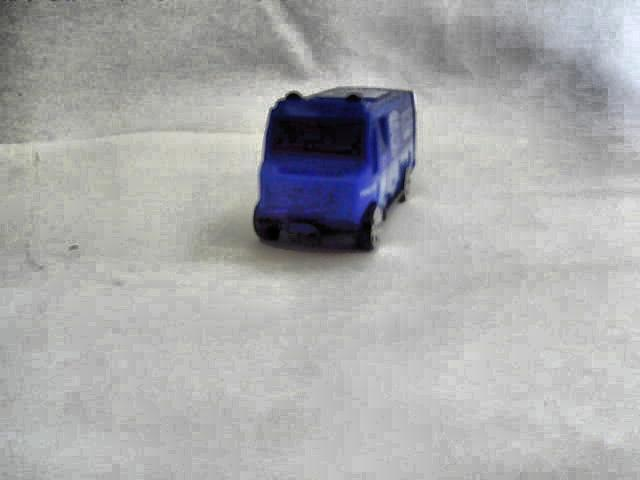police car: (259, 81, 424, 257)
